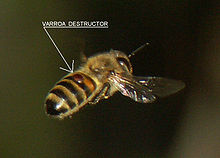mite: (72, 72, 91, 90)
worker: (39, 36, 196, 125)
